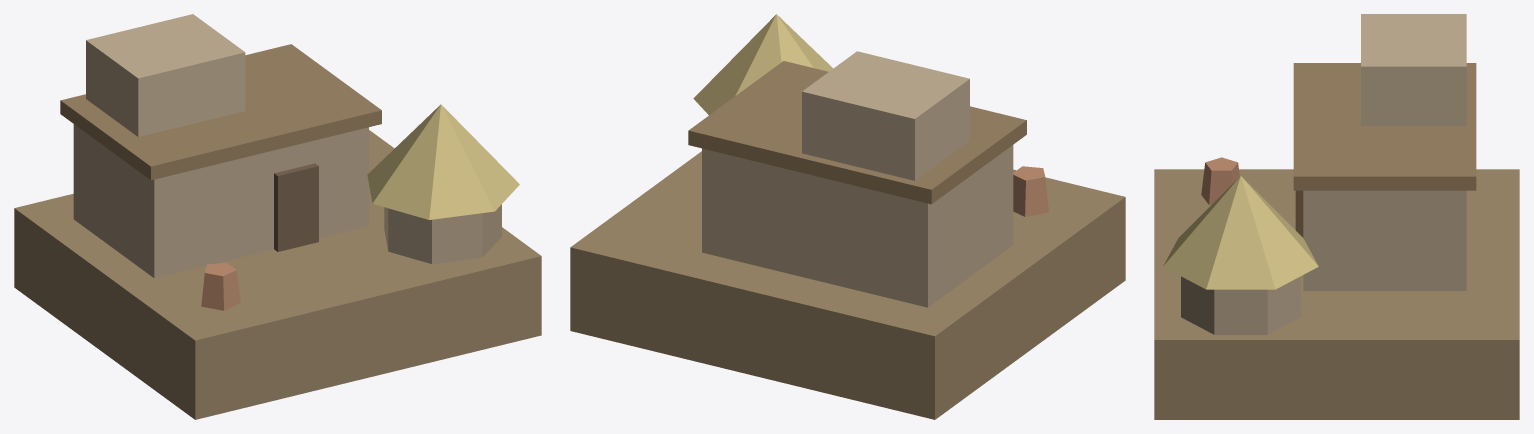
Rendered from house-ancient-1.glb.
3 renders of one model, left to right at view 1: azimuth 30°, elevation 25°; view 2: azimuth 150°, elevation 25°; view 3: azimuth 270°, elevation 25°, orthographic. The views are drawn at different scales.
Parts seen in each view (by area): view 1: LOD0; view 2: LOD0; view 3: LOD0.
Boxes of the visible parts, box(x1,y1,x2,y2) form: LOD0: box(14, 14, 541, 419); LOD0: box(570, 14, 1125, 419); LOD0: box(1154, 14, 1519, 419).
Size of what is drawn, in the model's own units: 0.2125 by 0.148 by 0.19.
